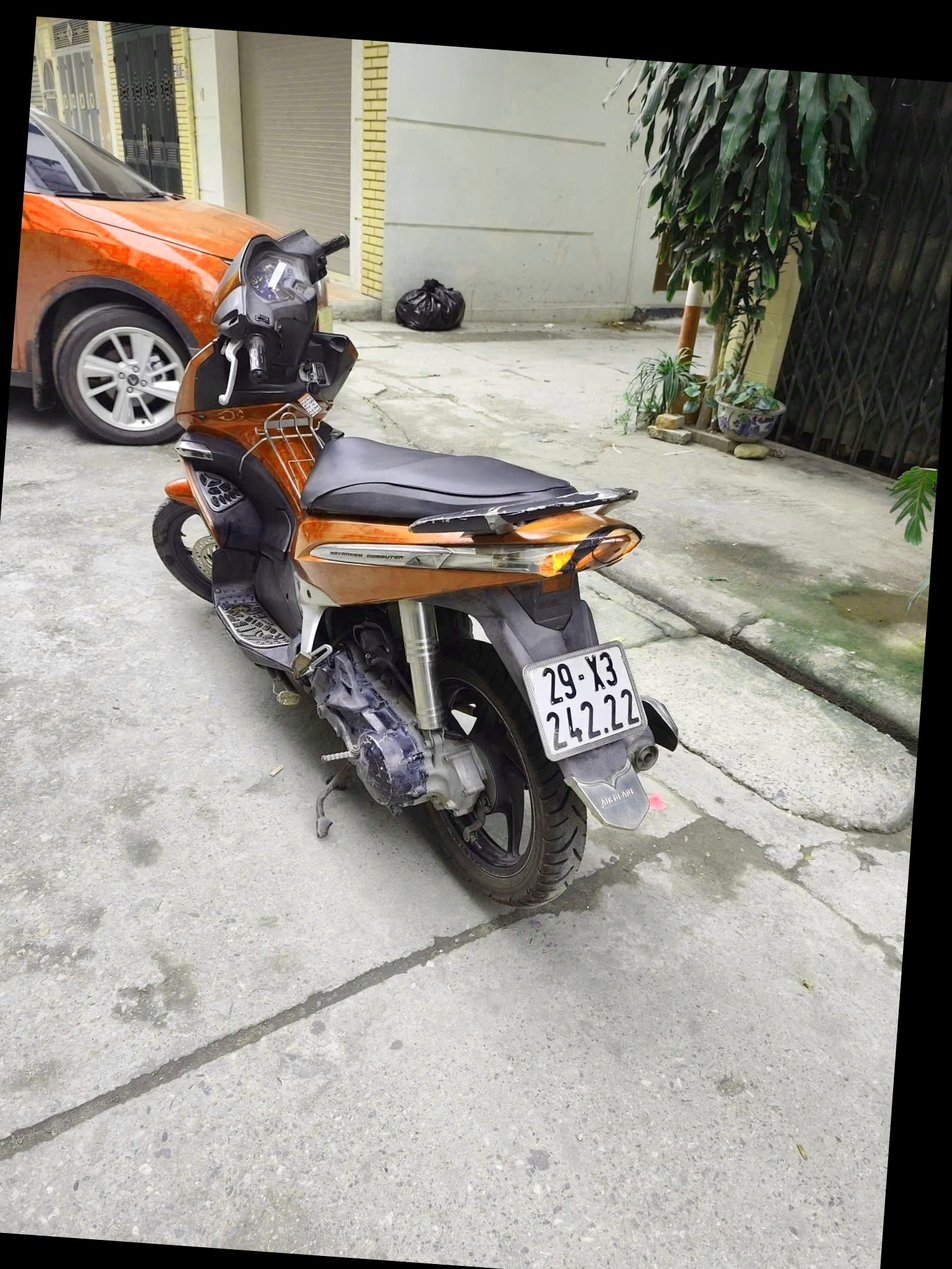Bien-so: (542, 620, 697, 751)
